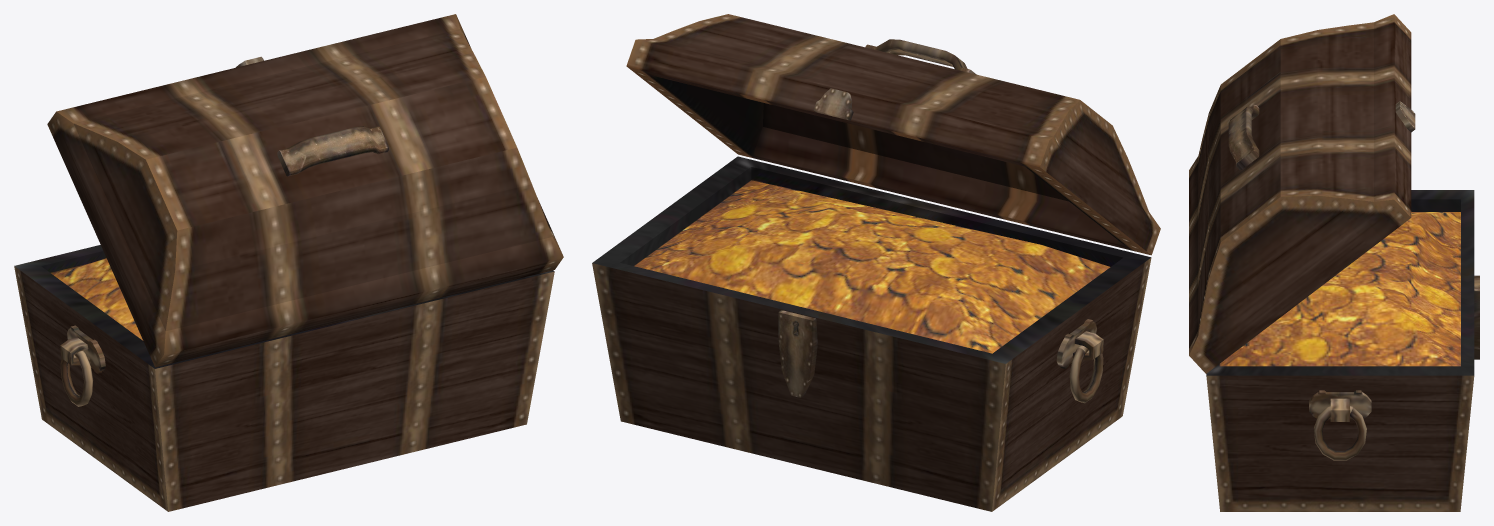
Rendered from treasureChest.fbx.
3 renders of one model, left to right at view 1: azimuth 30°, elevation 25°; view 2: azimuth 150°, elevation 25°; view 3: azimuth 270°, elevation 25°, orthographic. The views are drawn at different scales.
Visible parts, largest first — view 1: polySurface1; view 2: polySurface1; view 3: polySurface1.
Boxes of the visible parts, x1,y1,x2,y2 form: polySurface1: (14,14,563,511); polySurface1: (592,14,1160,511); polySurface1: (1189,14,1479,511).
Size of the model in its own units: 2.19 by 1.63 by 1.32.
